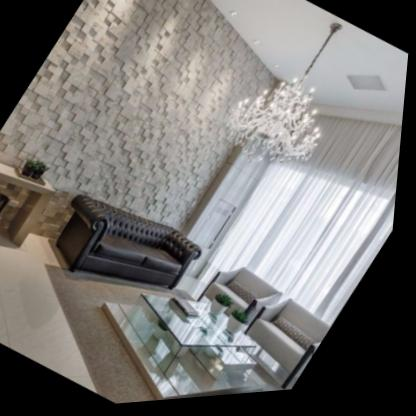Futech tiles: (45, 0, 262, 195)
